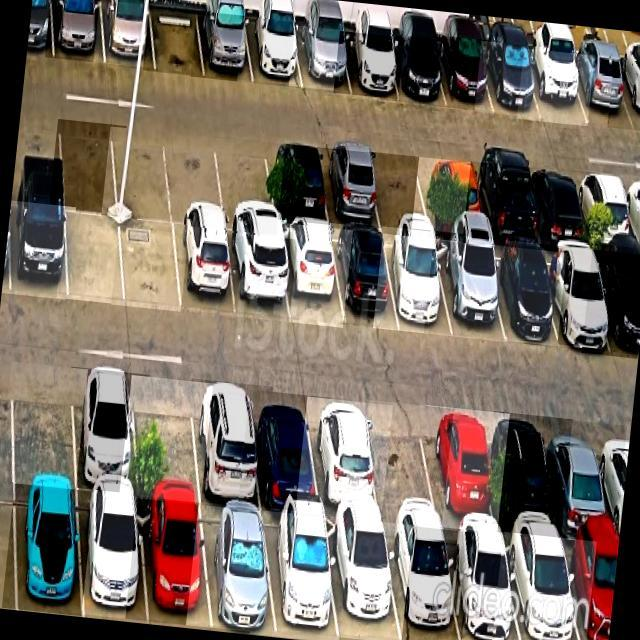empty: (363, 402, 441, 527), (132, 375, 201, 502), (12, 363, 76, 486), (110, 126, 172, 223), (214, 138, 276, 235), (58, 119, 117, 214), (166, 132, 224, 228), (120, 219, 180, 311), (65, 212, 124, 303), (368, 151, 430, 229), (149, 5, 205, 77)
occupied: (199, 505, 275, 634), (262, 512, 338, 640), (137, 498, 211, 627), (325, 517, 400, 640), (425, 406, 497, 533), (307, 397, 380, 521), (79, 490, 147, 621), (544, 418, 615, 542), (383, 526, 460, 640), (15, 485, 81, 616), (192, 382, 260, 508), (250, 389, 319, 512), (444, 529, 520, 640), (72, 367, 137, 494), (494, 412, 560, 537), (503, 534, 579, 640), (540, 246, 613, 350), (434, 241, 505, 341), (485, 245, 557, 343), (383, 234, 451, 336), (332, 228, 399, 328), (279, 224, 343, 325), (561, 538, 619, 640), (173, 225, 236, 315), (227, 232, 289, 321), (10, 201, 66, 299), (471, 162, 537, 243), (592, 250, 640, 358), (567, 52, 634, 128), (419, 157, 483, 236), (266, 143, 329, 223), (319, 147, 381, 226), (524, 49, 587, 124), (527, 166, 587, 243), (575, 170, 634, 247), (481, 41, 540, 118), (436, 37, 493, 112), (244, 17, 302, 88), (197, 10, 253, 83), (387, 36, 445, 106), (340, 31, 398, 99), (100, 0, 155, 68), (295, 26, 349, 92), (51, 0, 104, 63), (614, 59, 640, 129)
